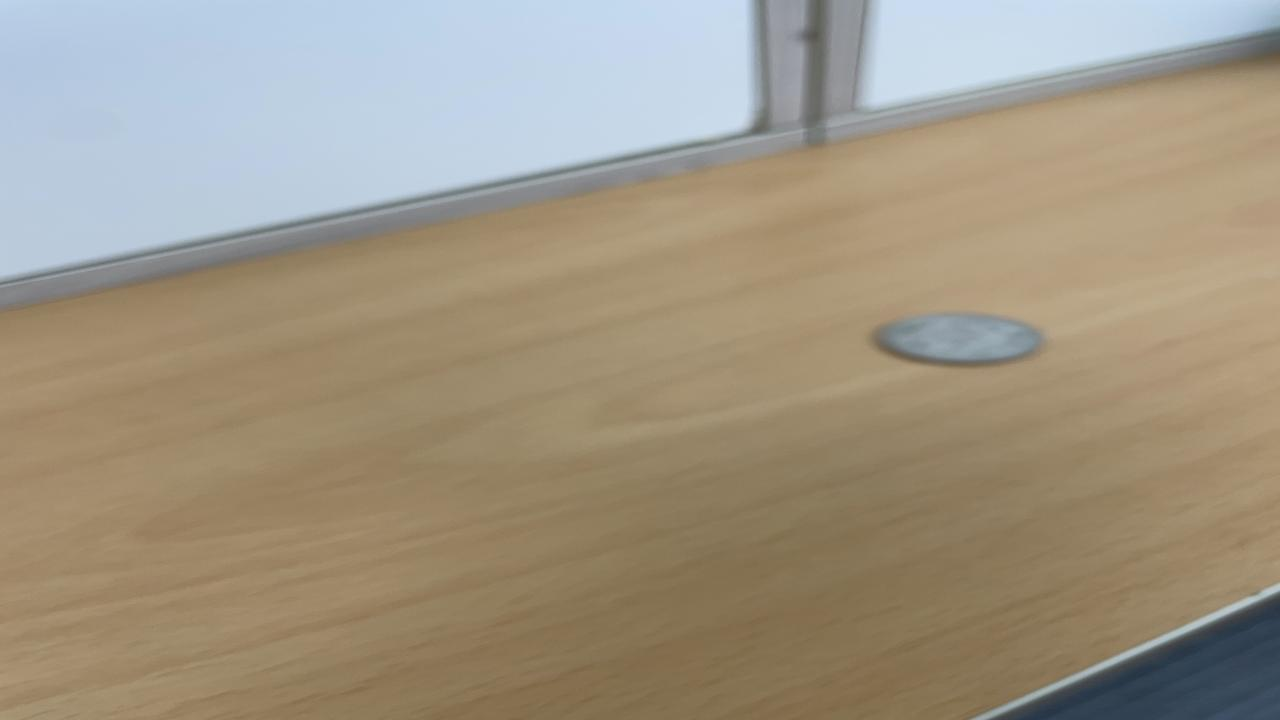coin: (868, 309, 1050, 367)
